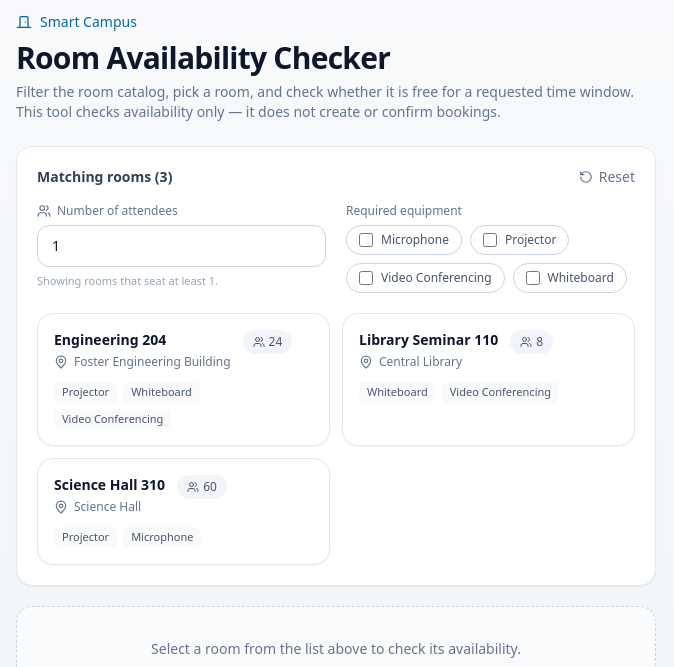
Test case: F4-F5: UI & Integration Tests › Test 10: Renders empty state when no rooms match (F4)
Replace the text in the number field labelled "Number of attendees" with "5000". click: (182, 246)
box: [37, 225, 326, 267]
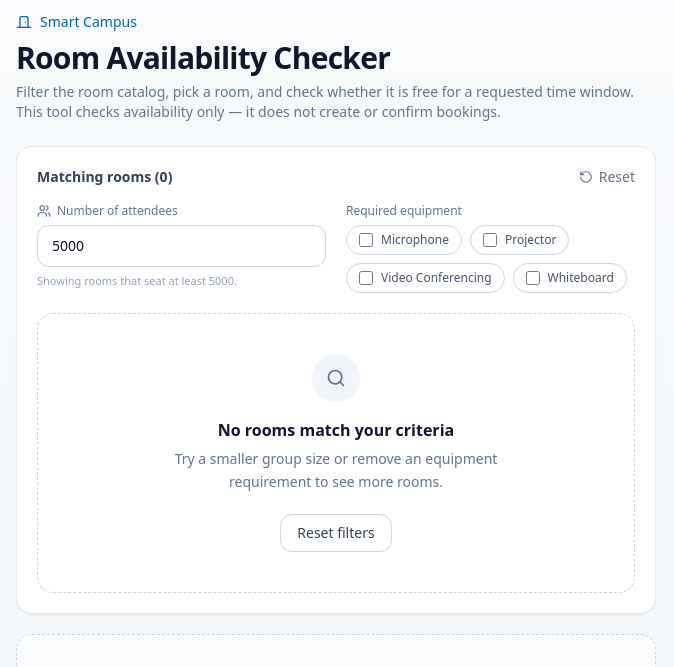
Now the heading "No rooms match your criteria" is shown, box [218, 418, 454, 442]
